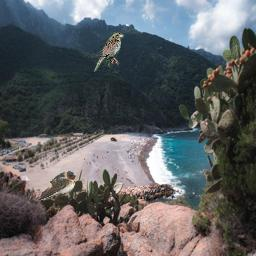Sparrow: (94, 32, 124, 72)
Swallow: (37, 171, 77, 200)
